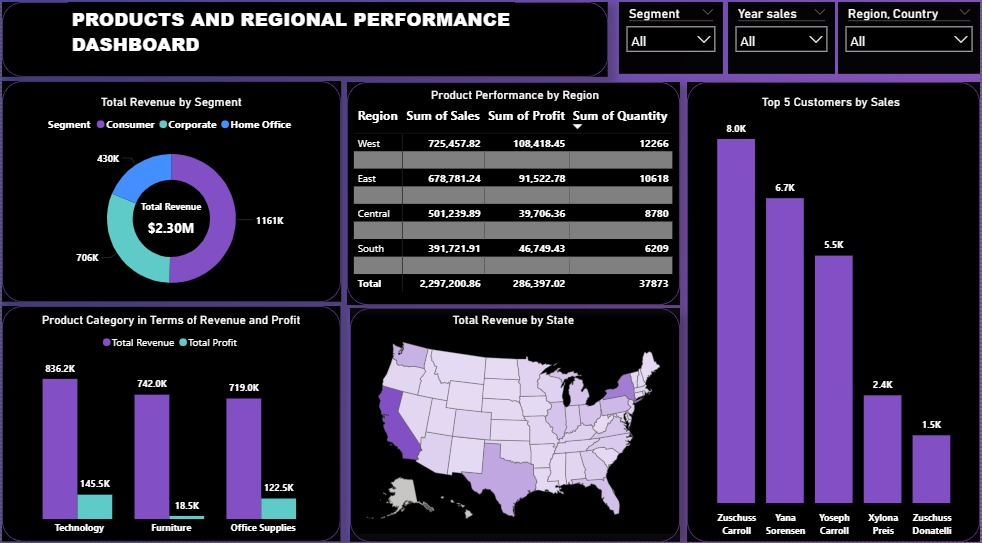

Layout of this report page (visuals, bound fields, positions):
{"tool":"powerbi","page":{"name":"Products","canvas":[1280,720],"ordinal":1},"visuals":[{"type":"shape","box":[0,13,793.4,97.9],"z":0},{"type":"shape","box":[455.6,413.7,432,306.3],"z":1000},{"type":"shape","box":[451.6,117.8,435.9,291.9],"z":2000},{"type":"shape","box":[896.7,117.8,383.6,602.2],"z":3000},{"type":"shape","box":[0,116.6,443.5,289.4],"z":4000},{"type":"shape","box":[0,411.5,443.2,308.3],"z":5000},{"type":"donutChart","fields":{"Y":["Order.Total Revenue"],"Category":["Order.Segment"]},"box":[0,135.4,443.5,276.5],"z":6000},{"type":"cardVisual","fields":{"Data":["Order.Total Revenue"]},"box":[158.3,246.4,126.6,99.1],"z":7000},{"type":"clusteredColumnChart","title":"Product Category in Terms of Revenue and Profit","fields":{"Category":["Order.Category"],"Y":["Order.Total Revenue","Order.Total Profit"]},"box":[0,419.8,443.2,300],"z":8000},{"type":"clusteredColumnChart","title":"Top 5 Customers by Sales","fields":{"Y":["Order.Total Revenue"],"Category":["Order.Customer Name"]},"box":[896.7,134.8,377,585.2],"z":9000},{"type":"slicer","fields":{"Values":["Order.Segment"]},"box":[807.7,13.1,136.1,94.3],"z":10000},{"type":"slicer","fields":{"Values":["Order.Year sales"]},"box":[950.4,13.1,140.1,94.3],"z":11000},{"type":"slicer","fields":{"Values":["Order.Region","Order.Country"]},"box":[1094.1,13.1,185.9,94.3],"z":12000},{"type":"pivotTable","title":"Product Performance by Region","fields":{"Rows":["Order.Region"],"Values":["Sum(Order.Sales)","Sum(Order.Profit)","Sum(Order.Quantity)"]},"box":[455.6,120.4,432,289.3],"z":13000},{"type":"shapeMap","fields":{"Category":["Order.State"],"Value":["Order.Total Revenue"]},"box":[451.6,420.2,435.9,289.3],"z":14000},{"type":"textbox","box":[86.4,13,584.6,93.6],"z":15000}]}

Visuals, with their boxes in screenshot pixels (x1, y1, x2, y2), scaled from the page's 1280x720 canvas onto the 982x543 screenshot:
shape: (0,10,609,84)
shape: (350,312,681,542)
shape: (346,89,681,309)
shape: (688,89,981,542)
shape: (0,88,340,306)
shape: (0,310,340,542)
donutChart - Order.Total Revenue x Order.Segment: (0,102,340,311)
cardVisual - Order.Total Revenue: (121,186,219,261)
"Product Category in Terms of Revenue and Profit" clusteredColumnChart: (0,317,340,542)
"Top 5 Customers by Sales" clusteredColumnChart: (688,102,977,542)
slicer - Order.Segment: (620,10,724,81)
slicer - Order.Year sales: (729,10,837,81)
slicer - Order.Region x Order.Country: (839,10,981,81)
"Product Performance by Region" pivotTable: (350,91,681,309)
shapeMap - Order.State x Order.Total Revenue: (346,317,681,535)
textbox: (66,10,515,80)
